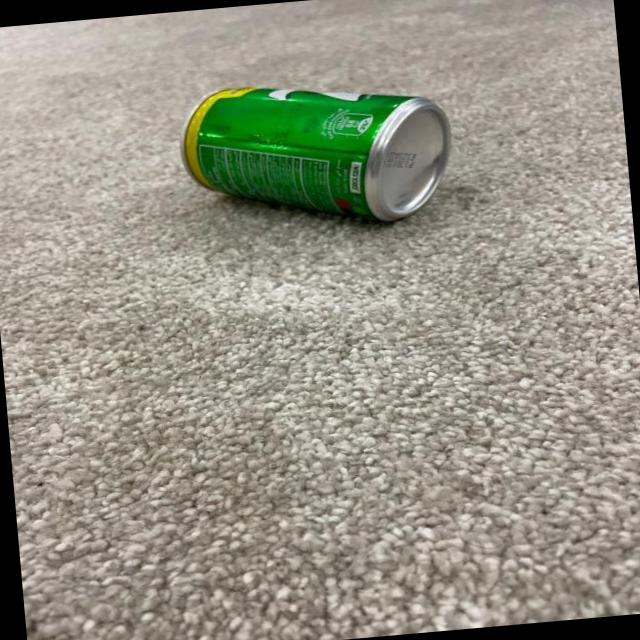Kaleng: (174, 66, 458, 240)
